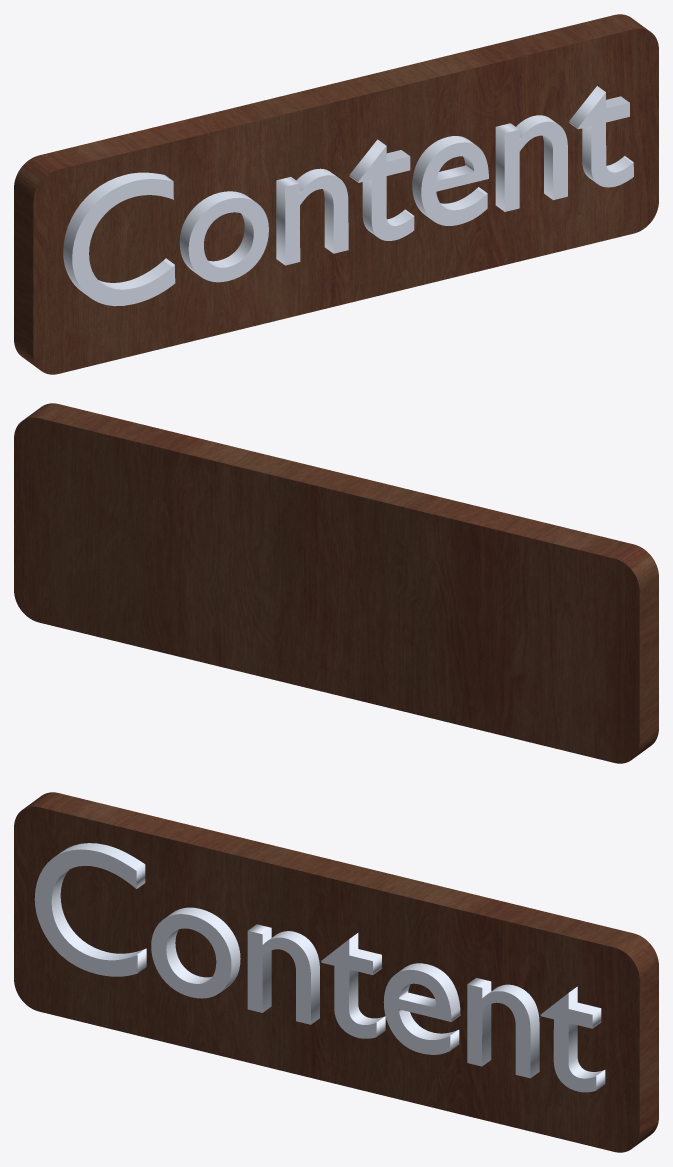
The model's file is contentlast.gltf.
3 views of the same model, one above another, from view 1: azimuth 30°, elevation 25°; view 2: azimuth 150°, elevation 25°; view 3: azimuth 330°, elevation 25° (orthographic).
Visible parts, largest first — view 1: Cube, text; view 2: Cube; view 3: Cube, text.
Boxes of the visible parts, left/top/right/bottom form: Cube: left=14, top=14, right=658, bottom=374; text: left=63, top=86, right=633, bottom=306; Cube: left=14, top=403, right=658, bottom=763; Cube: left=14, top=792, right=658, bottom=1152; text: left=34, top=843, right=605, bottom=1092.
Bounding box in the file's own units: 3.74 × 1.17 × 0.2953.
Materials: 2 (1 with a texture image).
